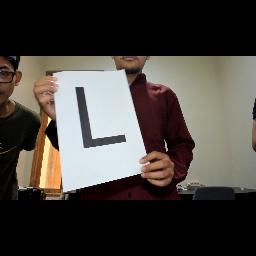l: (68, 83, 136, 151)
